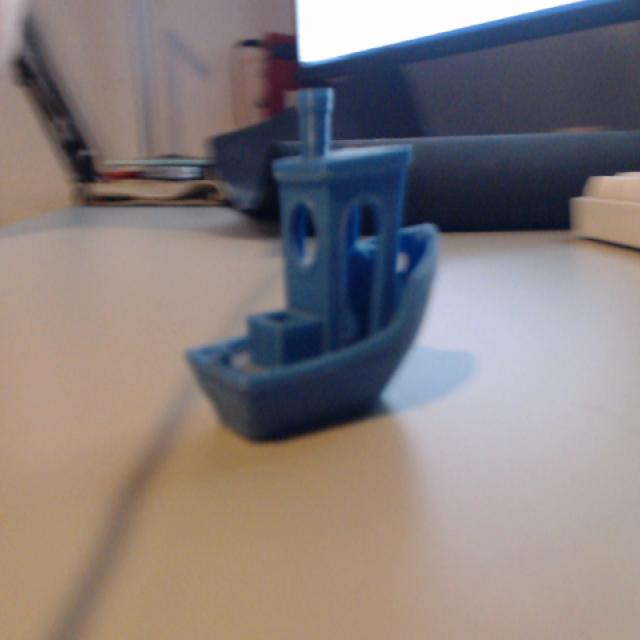benchy: (183, 84, 441, 441)
